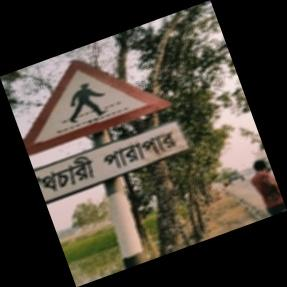Pedestrian-crossing: (22, 60, 186, 208)
